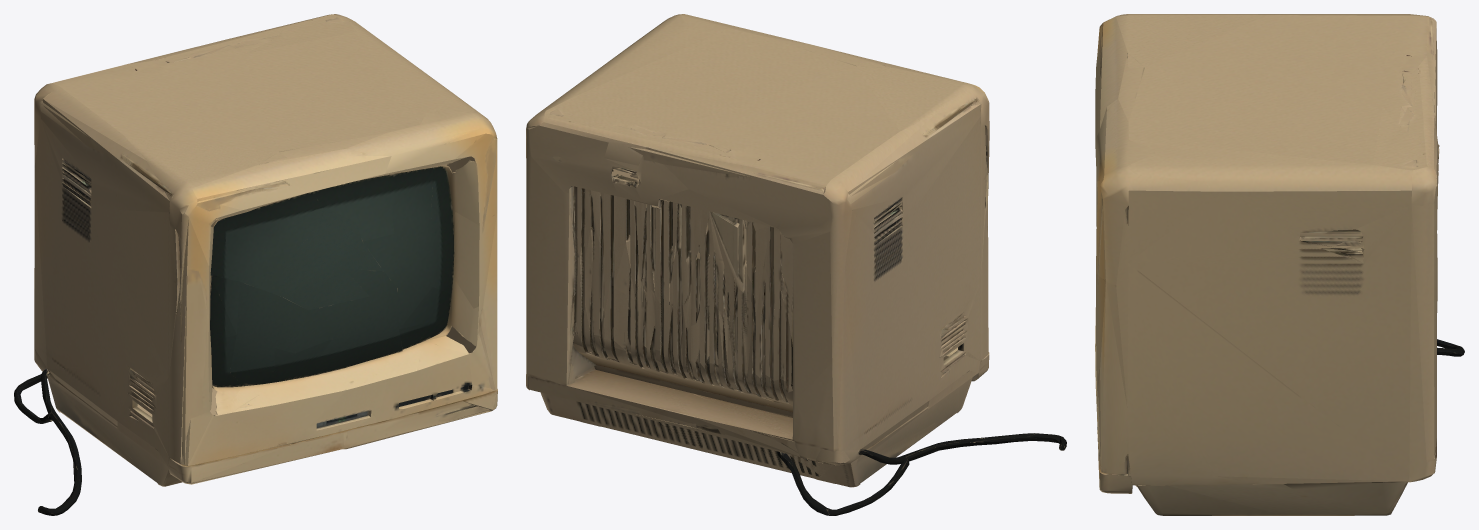
File: monitor_crt.glb
3 views of the same model, side by side, from view 1: azimuth 30°, elevation 25°; view 2: azimuth 150°, elevation 25°; view 3: azimuth 270°, elevation 25° (orthographic). The views are drawn at different scales.
Size of the model in its own units: 1.9 by 1.36 by 1.3.
1 material, 1 textured.
